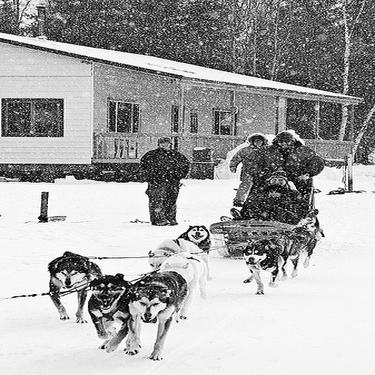dog: (19, 242, 114, 340), (115, 262, 193, 370), (83, 265, 134, 359), (229, 231, 290, 302), (272, 201, 329, 275), (154, 248, 215, 313), (130, 228, 186, 283), (158, 227, 214, 270)
